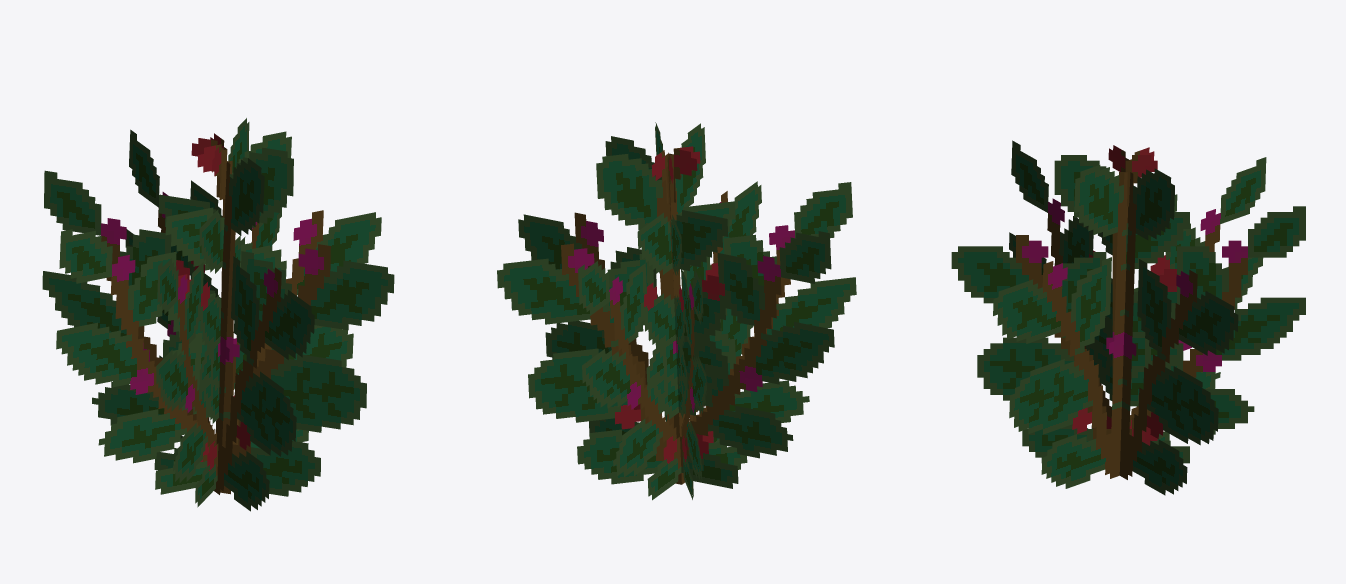
The model's file is ka'arurupa.glb.
3 views of the same model, side by side, from view 1: azimuth 30°, elevation 25°; view 2: azimuth 150°, elevation 25°; view 3: azimuth 270°, elevation 25° (orthographic). The views are drawn at different scales.
Visible parts, largest first — view 1: hojas; view 2: hojas; view 3: hojas.
Boxes of the visible parts, left/top/right/bottom form: hojas: left=42, top=118, right=394, bottom=511; hojas: left=497, top=122, right=856, bottom=500; hojas: left=951, top=140, right=1305, bottom=495.
Bounding box in the file's own units: 1.04 × 1.04 × 1.
1 material, 1 textured.
